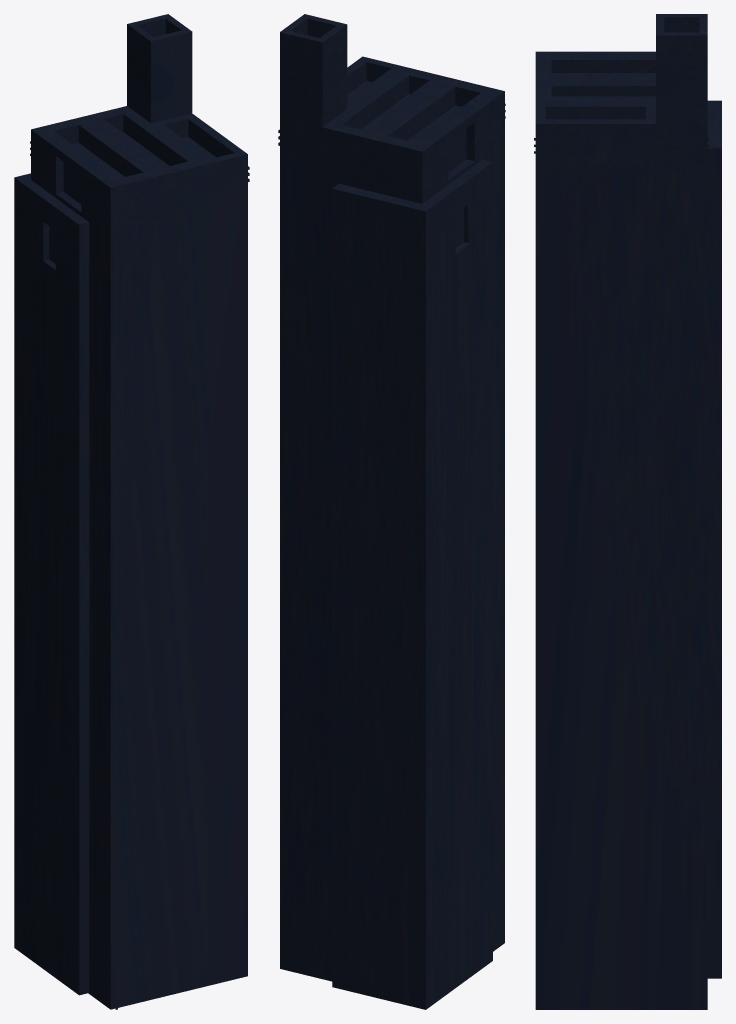
Rendered from Pink_Hotel.fbx.
The picture shows the model from 3 angles, left to right: view 1: azimuth 30°, elevation 25°; view 2: azimuth 150°, elevation 25°; view 3: azimuth 270°, elevation 25°; orthographic projection. The views are drawn at different scales.
Visible parts, largest first — view 1: Pink House; view 2: Pink House; view 3: Pink House.
Part boxes in pixels (x1,y1,x2,y2): Pink House: [14, 14, 249, 1009]; Pink House: [278, 14, 505, 1009]; Pink House: [534, 14, 721, 1009].
Size of the model in its own units: 21.35 by 124 by 21.73.
